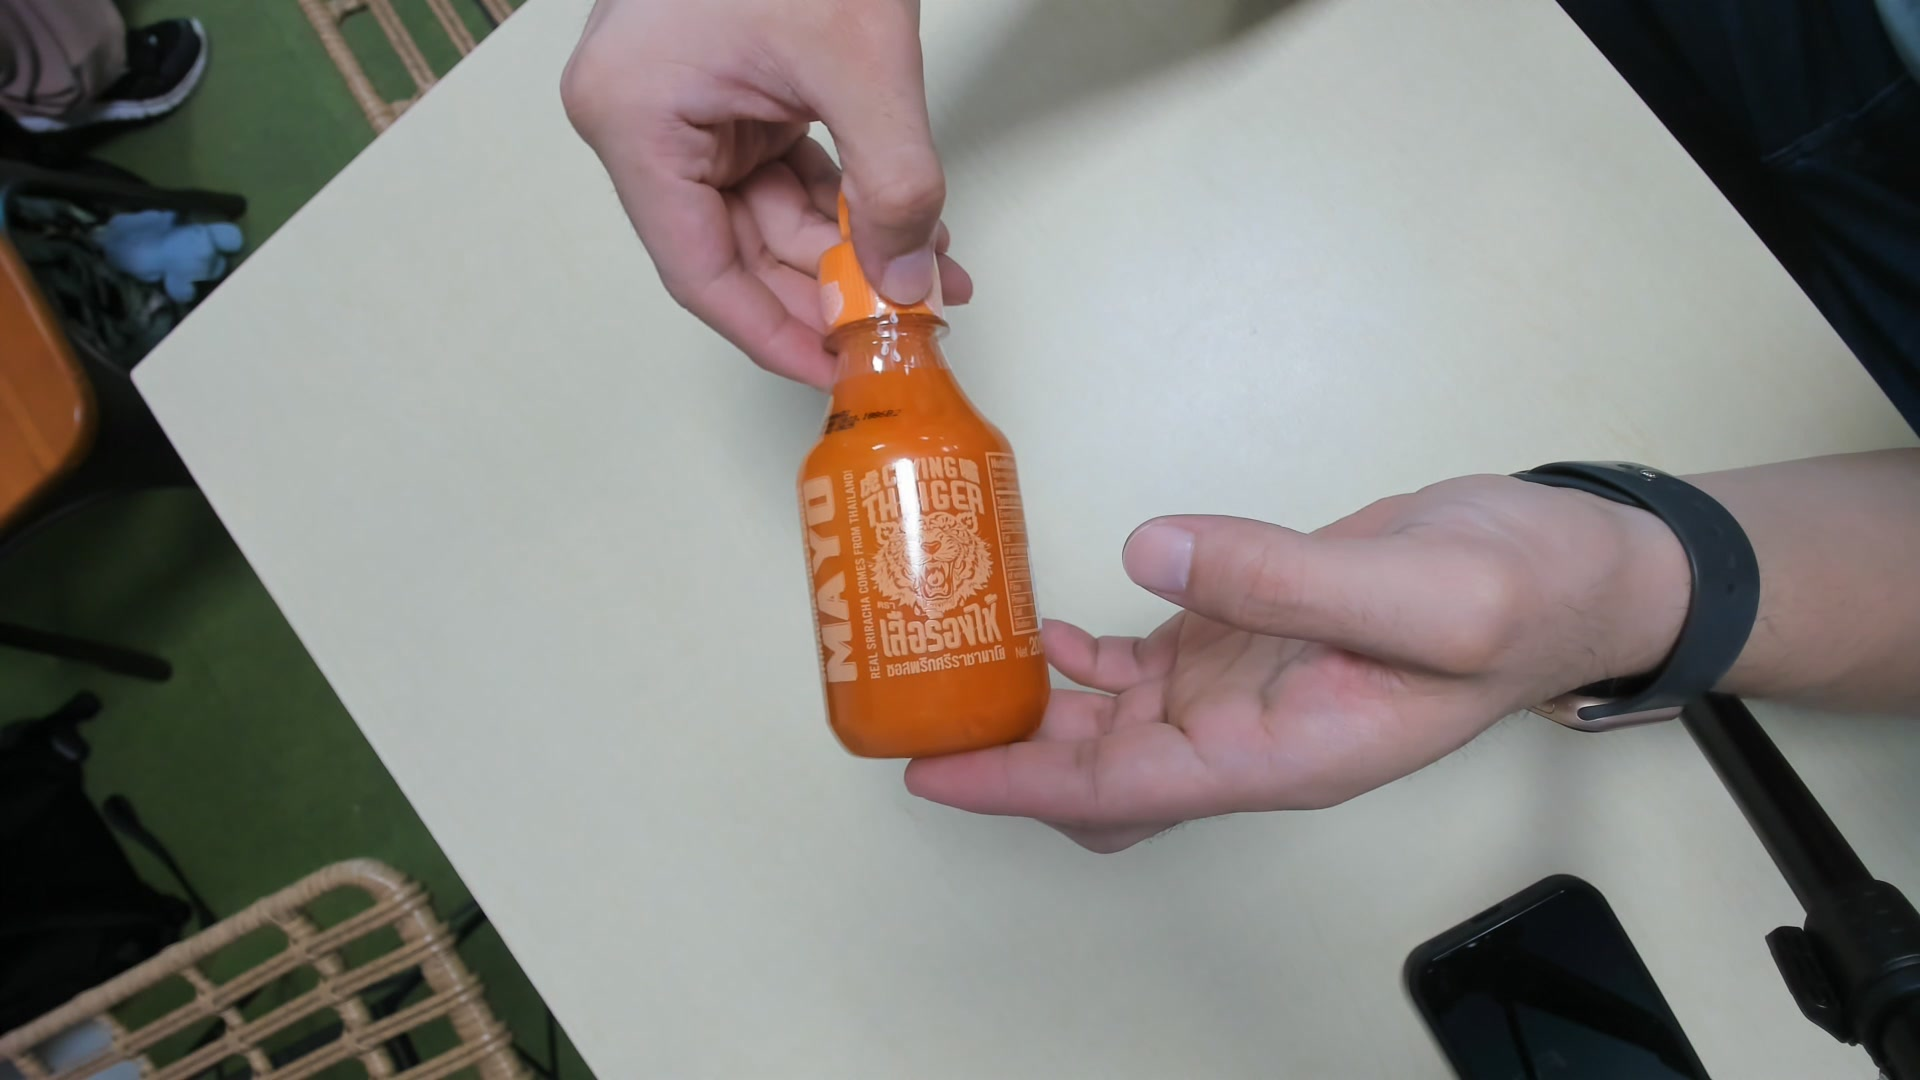OtherSauceDressing_200-299g_NonHalal_NonHealthy: (810, 191, 1050, 764)
